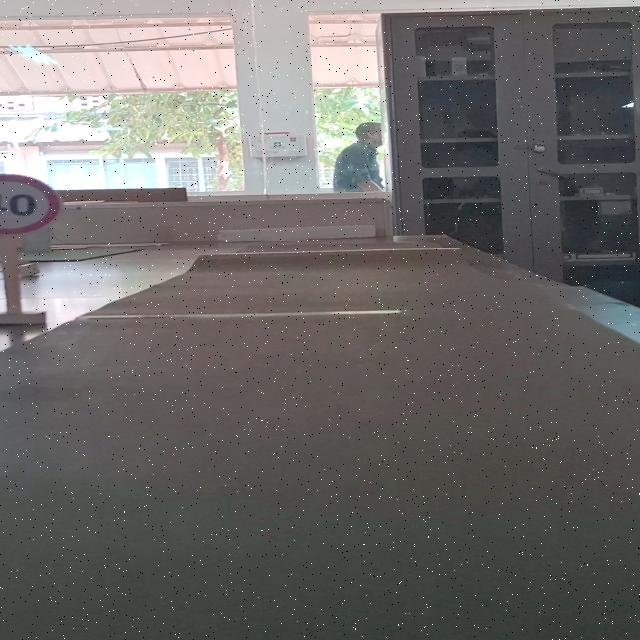Speed40: (0, 172, 62, 236)
